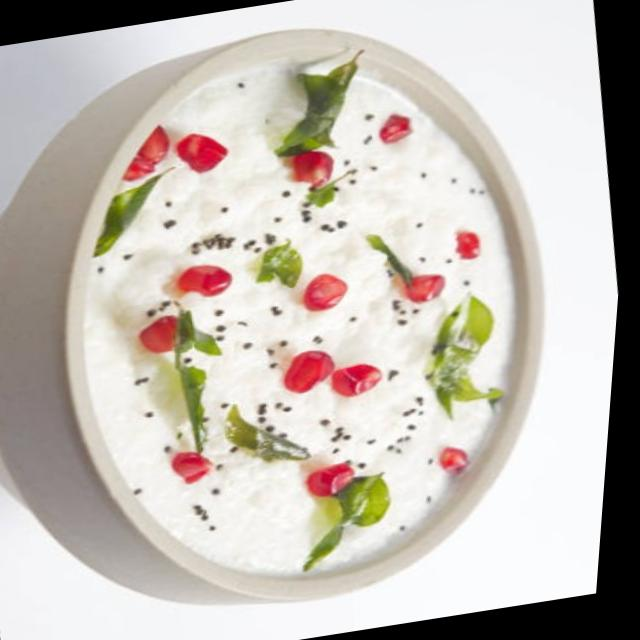CURD RICE: (82, 66, 516, 577)
